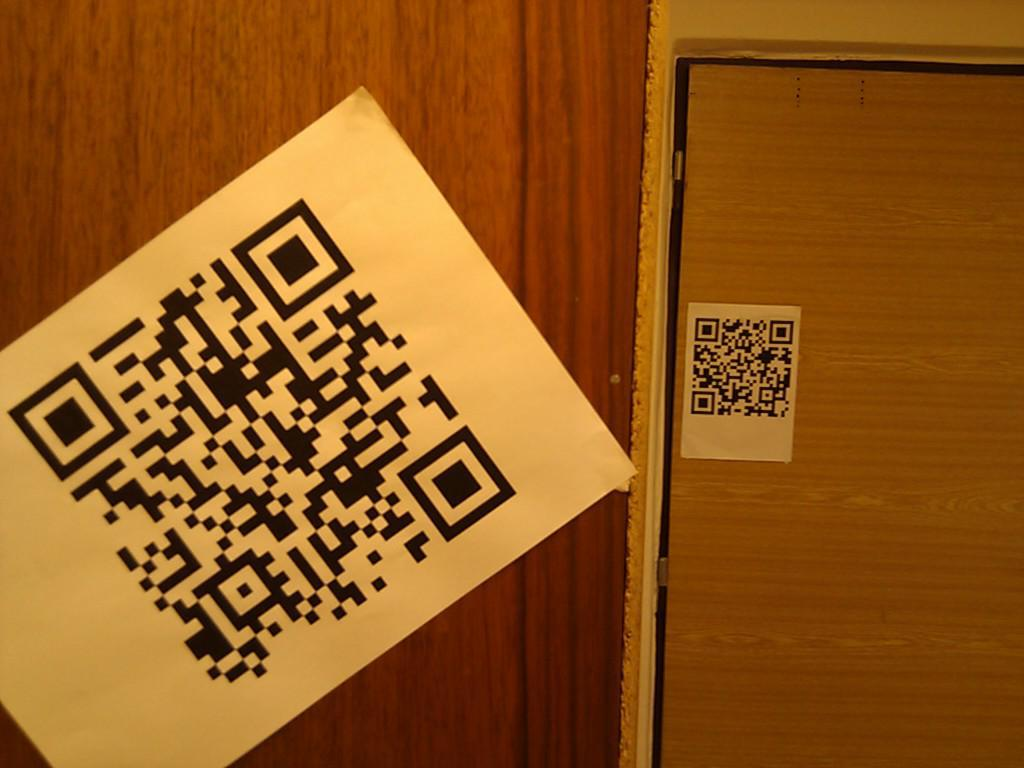Finder pattern: (228, 196, 355, 324), (395, 420, 519, 546), (8, 361, 131, 482), (767, 319, 799, 349), (693, 315, 722, 346), (689, 389, 718, 415)
